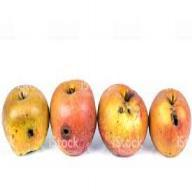apple: (48, 74, 98, 156), (98, 82, 148, 158), (4, 80, 50, 150), (148, 88, 191, 159)
